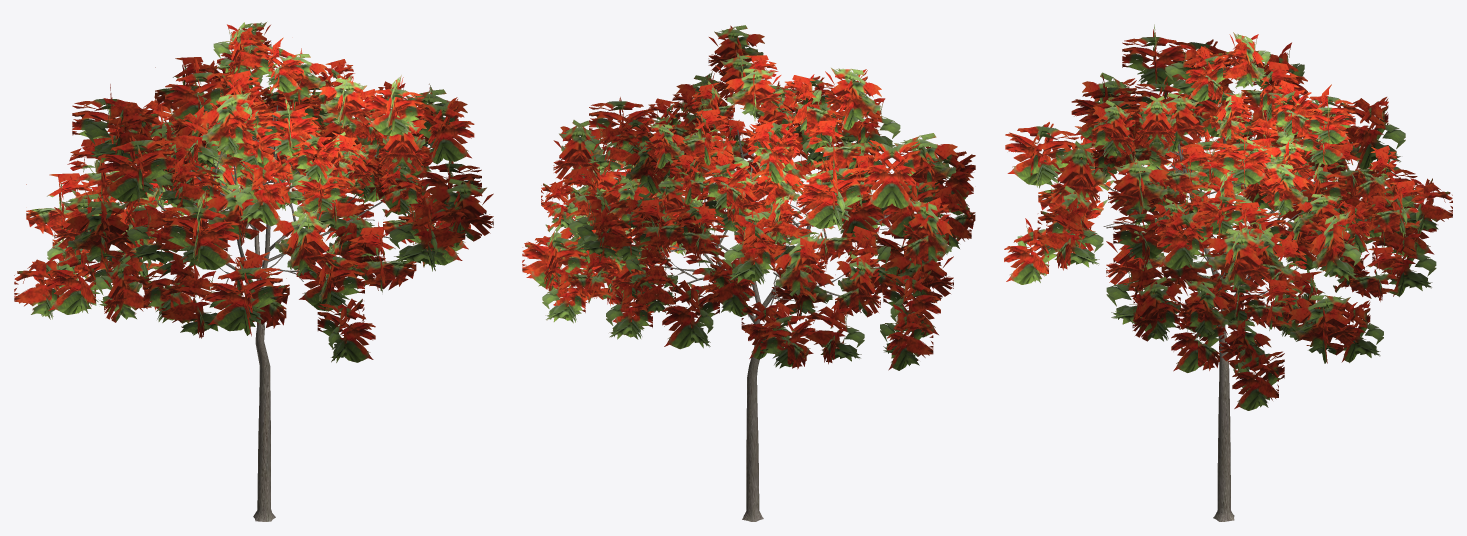
Rendered from arbol_flamboyan.obj.
3 views of the same model, side by side, from view 1: azimuth 30°, elevation 25°; view 2: azimuth 150°, elevation 25°; view 3: azimuth 270°, elevation 25° (orthographic). The views are drawn at different scales.
Visible parts, largest first — view 1: arbol_flamboyan; view 2: arbol_flamboyan; view 3: arbol_flamboyan.
Part boxes in pixels (x1,y1,x2,y2): arbol_flamboyan: [14, 22, 493, 521]; arbol_flamboyan: [522, 25, 975, 521]; arbol_flamboyan: [1004, 24, 1452, 521].
Bounding box in the file's own units: 6.59 × 7.02 × 6.01.
